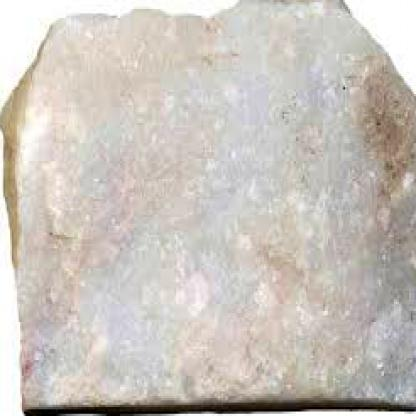Metamorphic_Marble: (3, 0, 414, 414)
